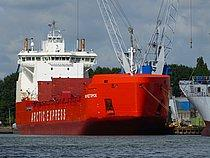Ship: (11, 23, 177, 139)
